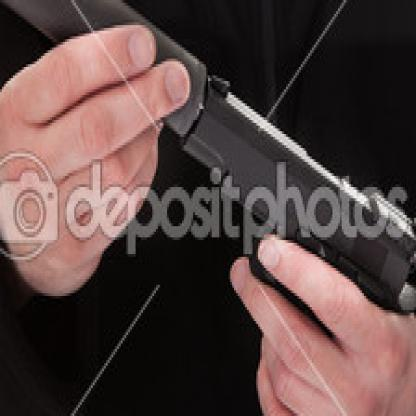gun: (0, 0, 414, 408)
